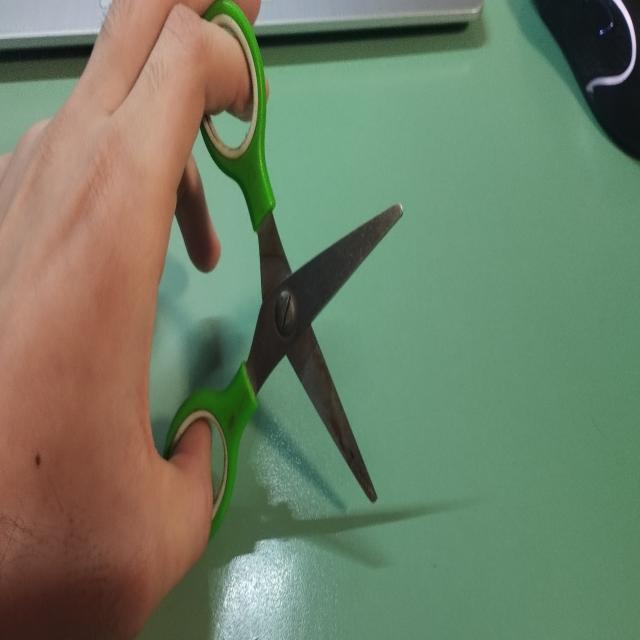tesoura: (158, 2, 406, 551)
